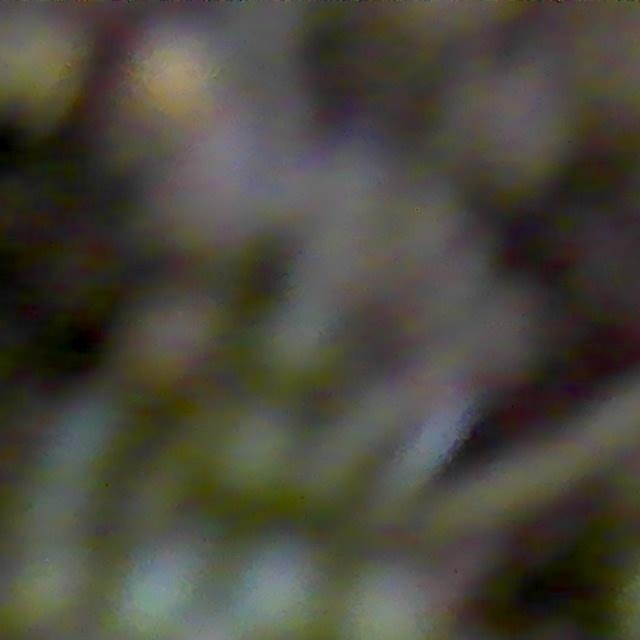SeaGrape: (218, 540, 322, 640), (205, 403, 304, 504), (113, 544, 205, 640), (7, 545, 93, 633)
